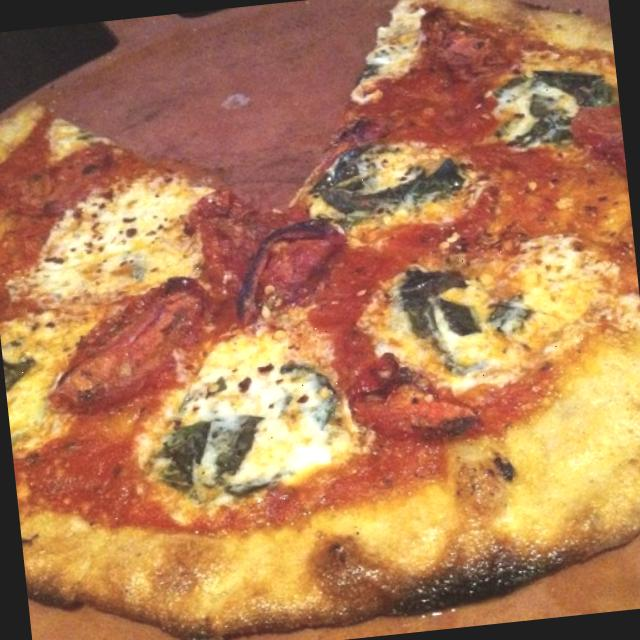basil: (324, 156, 466, 218), (494, 66, 604, 144), (396, 267, 474, 373), (160, 412, 256, 490), (286, 360, 340, 430), (490, 297, 544, 337)
cheese: (390, 230, 620, 392), (159, 325, 359, 510), (19, 179, 222, 310), (314, 137, 478, 235), (0, 319, 80, 459), (490, 56, 600, 154)
pizza: (0, 0, 640, 640)
tomato: (40, 276, 222, 414), (222, 215, 352, 327)
